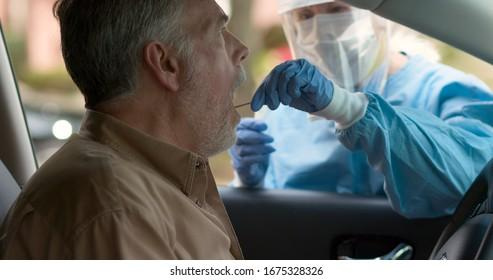gloves: (250, 58, 369, 130), (228, 116, 275, 191)
